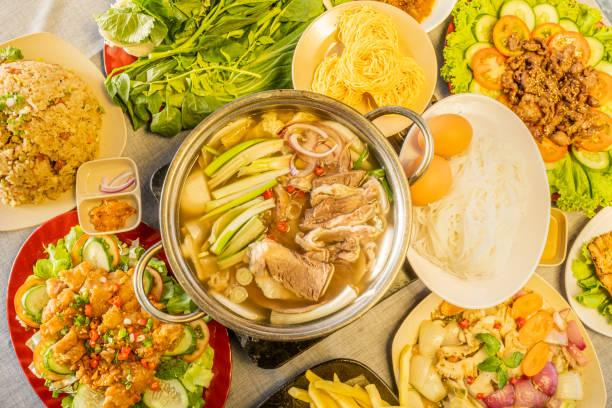Braised Crucian Carp: (157, 87, 414, 347), (4, 208, 225, 406), (400, 91, 554, 306), (388, 275, 606, 404), (0, 29, 134, 227), (296, 1, 445, 130)
